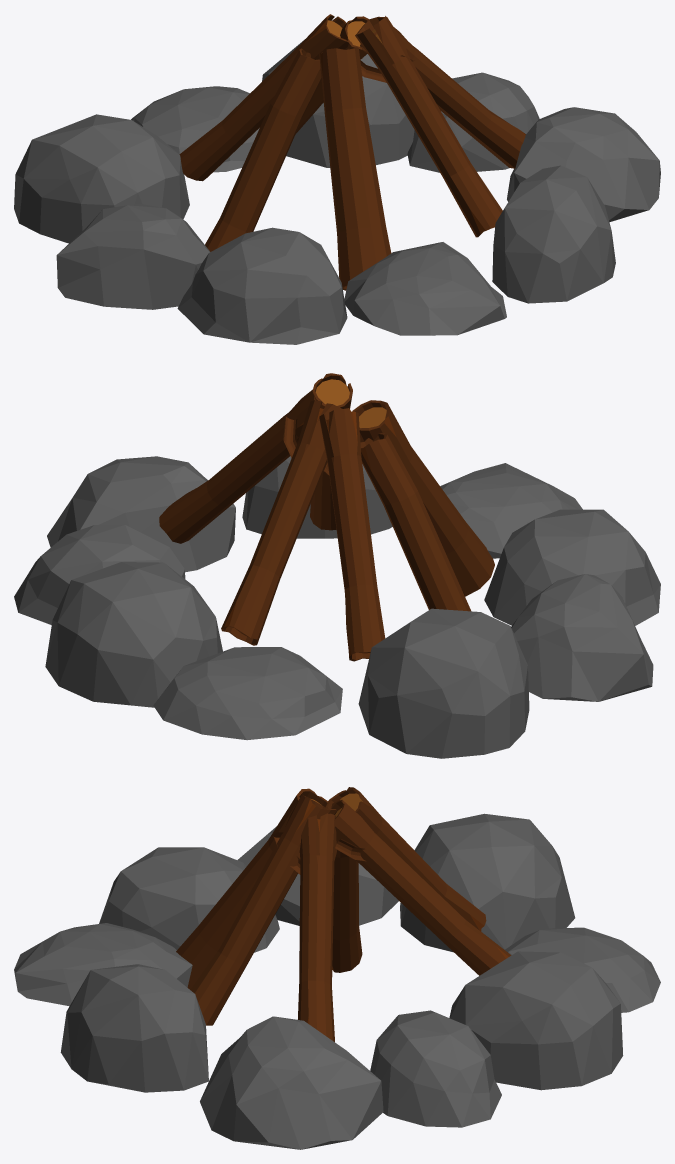
File: campfire_ready.fbx
3 views of the same model, one above another, from view 1: azimuth 30°, elevation 25°; view 2: azimuth 150°, elevation 25°; view 3: azimuth 270°, elevation 25° (orthographic). The views are drawn at different scales.
Visible parts, largest first — view 1: campfire_ready; view 2: campfire_ready; view 3: campfire_ready.
Part boxes in pixels (x1=…): campfire_ready: x1=14, y1=14, x2=660, y2=344; campfire_ready: x1=14, y1=373, x2=660, y2=758; campfire_ready: x1=14, y1=787, x2=660, y2=1149.
Size of the model in its own units: 145 by 56.92 by 136.
